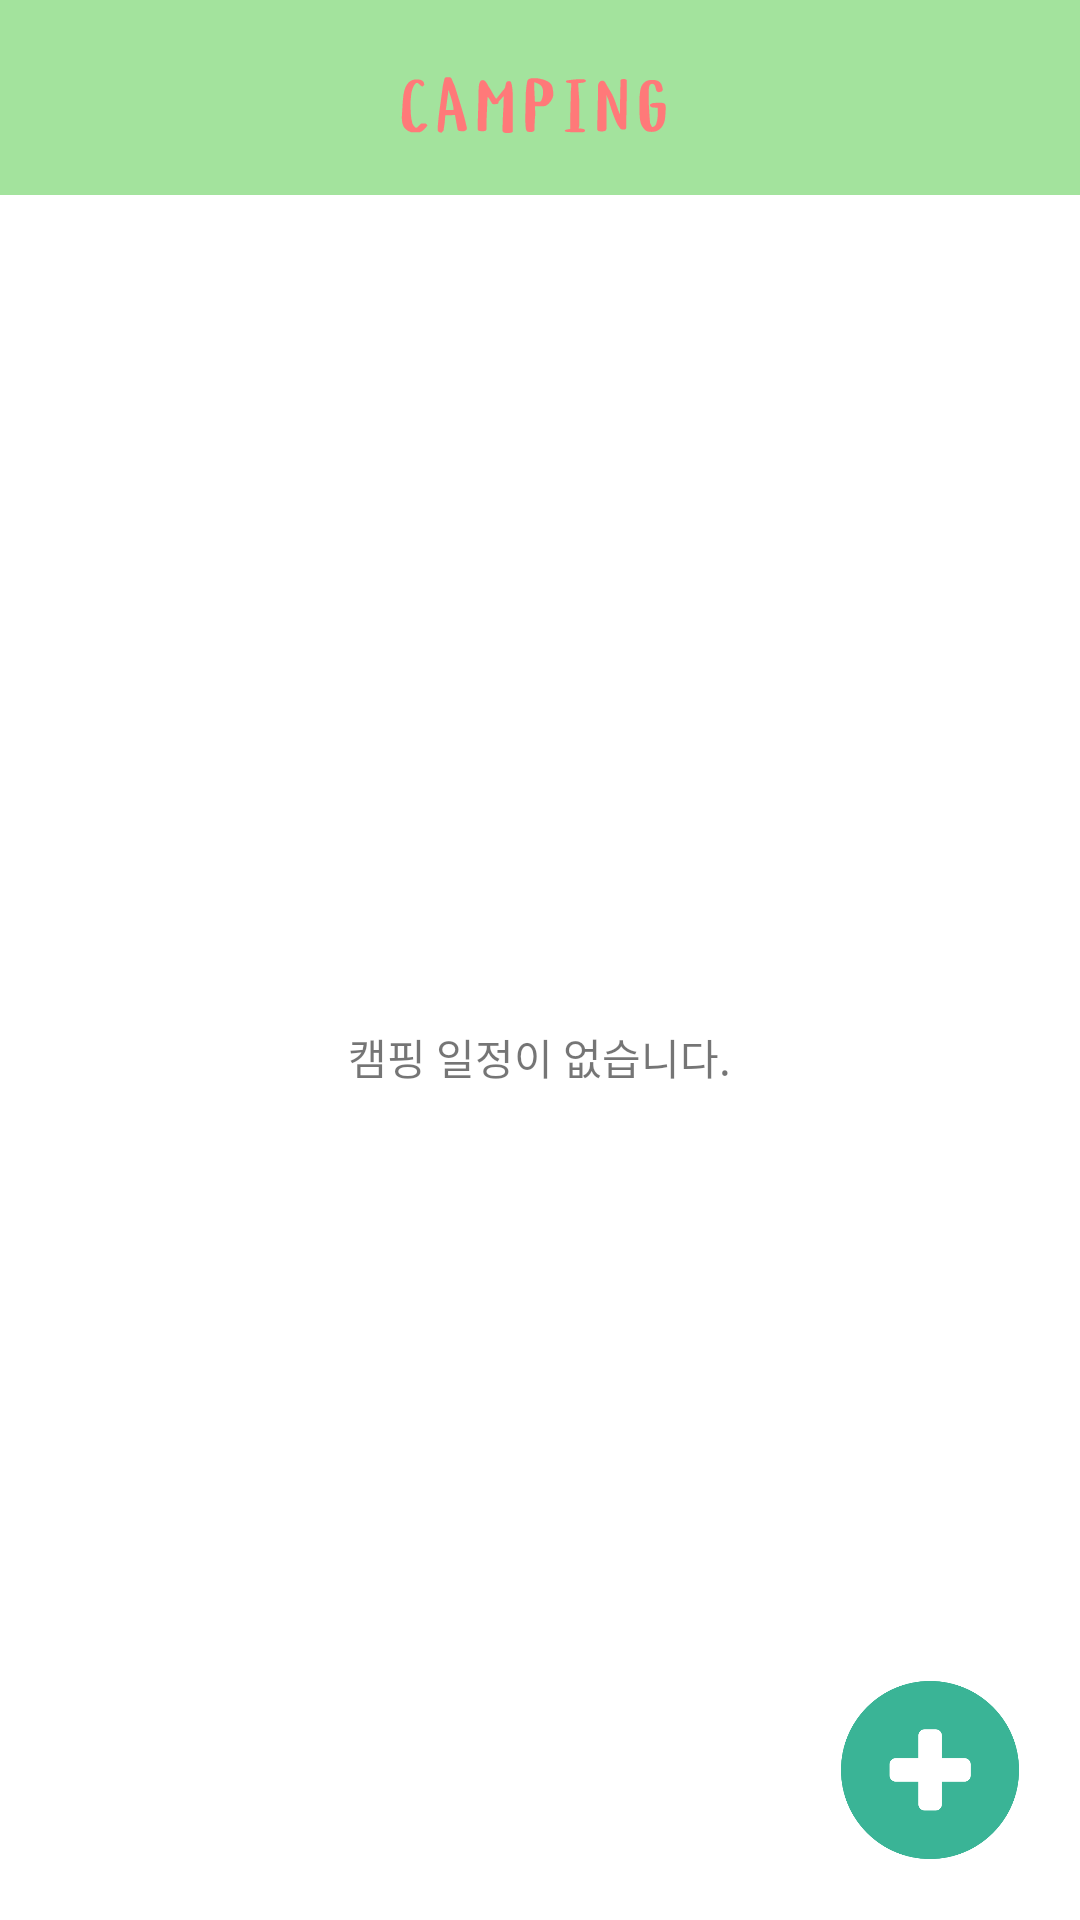

Point at icon controls on the screen. Image size 1080 × 1920, points as (x=x, y=y).
plus: (x=930, y=1770)
